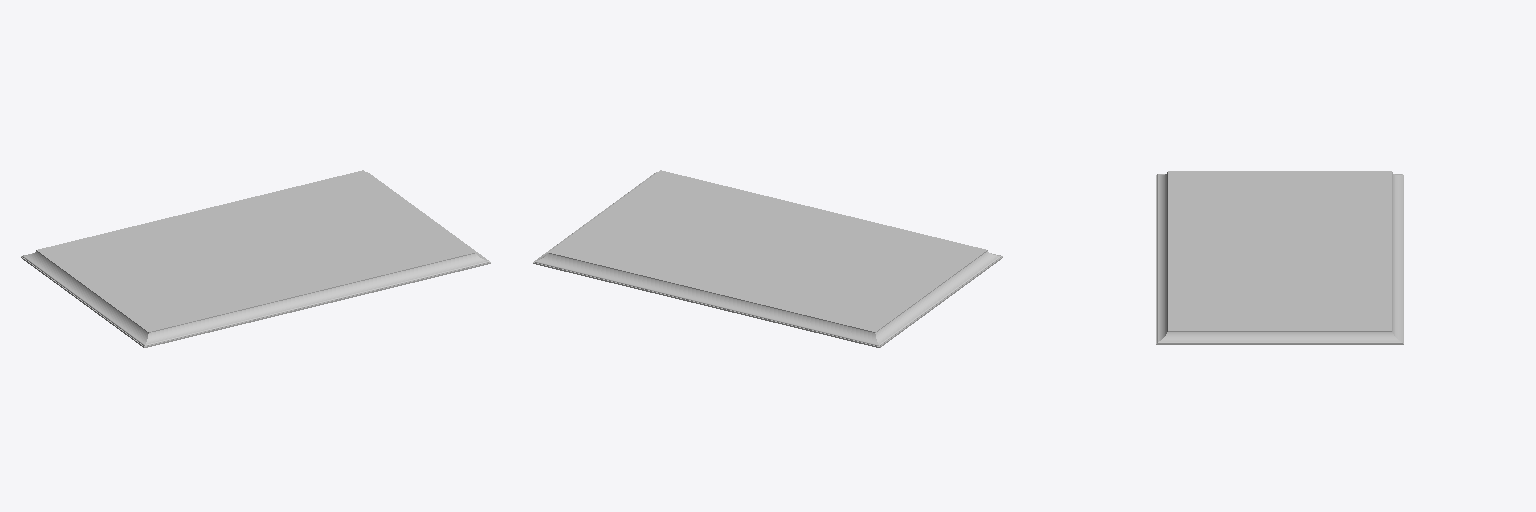
Rendered from original-28.obj.
The picture shows the model from 3 angles: view 1: azimuth 30°, elevation 25°; view 2: azimuth 150°, elevation 25°; view 3: azimuth 270°, elevation 25°; orthographic projection.
Parts seen in each view (by area): view 1: top1/top/mesh69/mesh69-geometry#mesh69-geometry; view 2: top1/top/mesh69/mesh69-geometry#mesh69-geometry; view 3: top1/top/mesh69/mesh69-geometry#mesh69-geometry.
Part boxes in pixels (left/top/right/bottom): top1/top/mesh69/mesh69-geometry#mesh69-geometry: left=21, top=170, right=490, bottom=347; top1/top/mesh69/mesh69-geometry#mesh69-geometry: left=533, top=170, right=1002, bottom=347; top1/top/mesh69/mesh69-geometry#mesh69-geometry: left=1156, top=171, right=1403, bottom=344.
Bounding box in the file's own units: 1.8 × 0.0472 × 1.11.